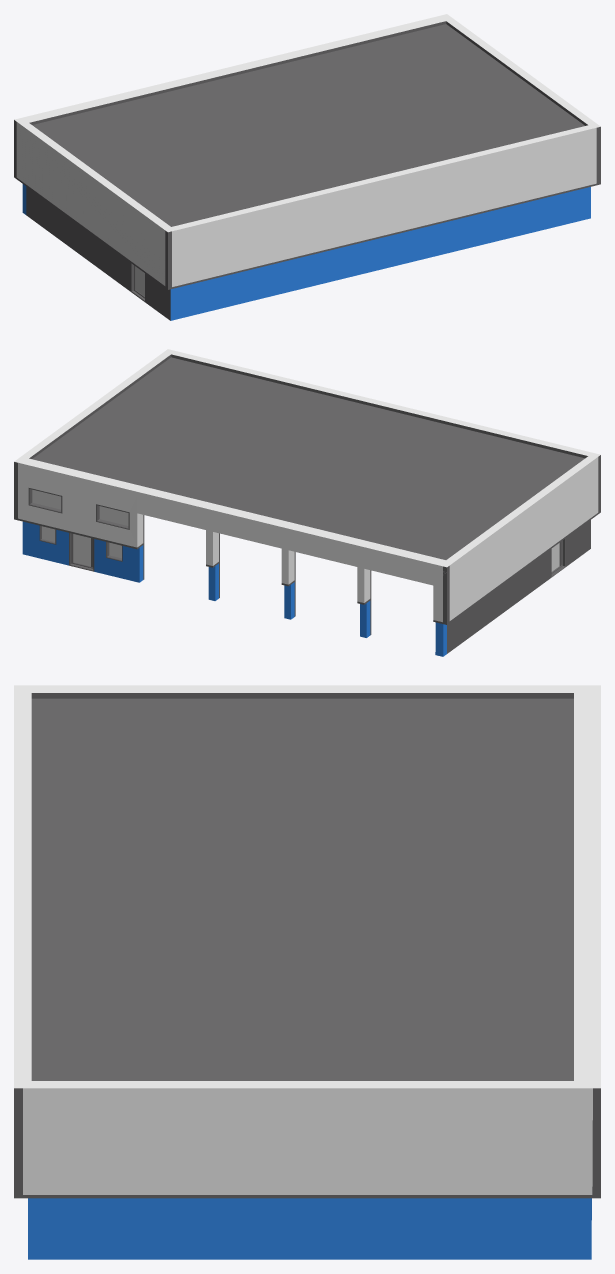
The model's file is Build.fbx.
The picture shows the model from 3 angles, top to bottom: view 1: azimuth 30°, elevation 25°; view 2: azimuth 150°, elevation 25°; view 3: azimuth 270°, elevation 25°; orthographic projection. The views are drawn at different scales.
Parts seen in each view (by area): view 1: Element 0; view 2: Element 0, Element 6, Element 3; view 3: Element 0.
Part boxes in pixels (x1,y1,x2,y2): Element 0: (14, 14, 600, 320); Element 0: (14, 349, 600, 656); Element 6: (73, 534, 90, 566); Element 3: (32, 489, 61, 509); Element 0: (14, 685, 600, 1259).
Size of the model in its own units: 5150 by 1055 by 3170.
